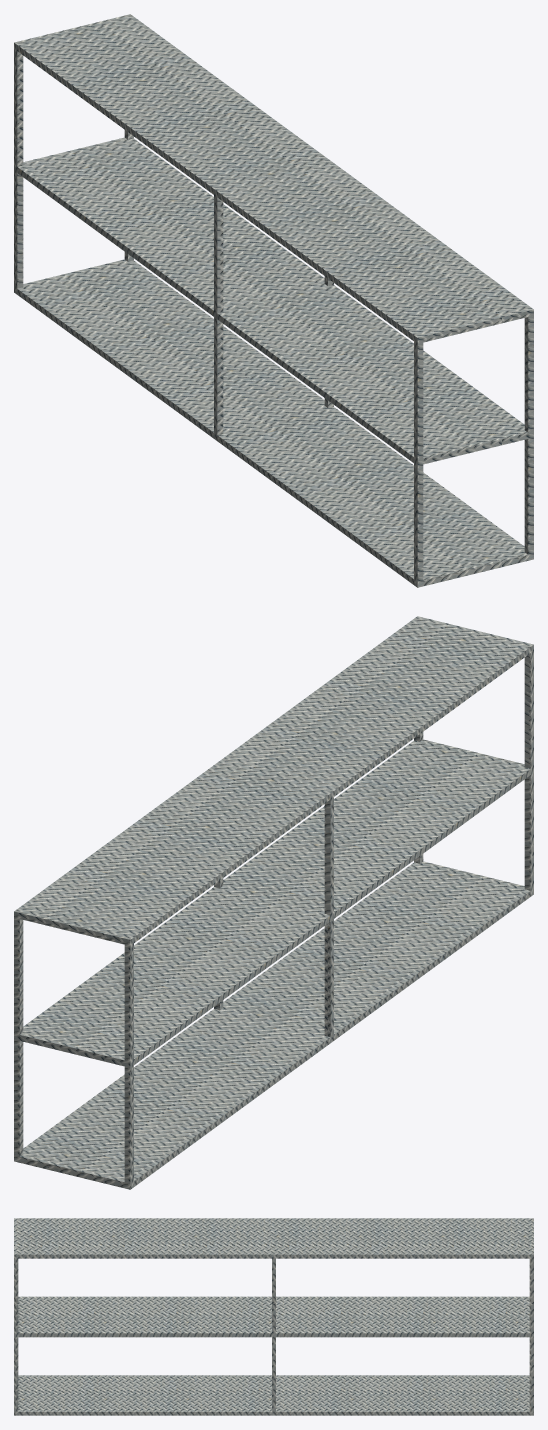
The model's file is rack.dae.
3 renders of one model, top to bottom at view 1: azimuth 30°, elevation 25°; view 2: azimuth 150°, elevation 25°; view 3: azimuth 270°, elevation 25°, orthographic. The views are drawn at different scales.
Visible parts, largest first — view 1: Стеллаж; view 2: Стеллаж; view 3: Стеллаж.
Boxes of the visible parts, x1,y1,x2,y2 form: Стеллаж: [14, 14, 533, 587]; Стеллаж: [14, 616, 533, 1189]; Стеллаж: [14, 1218, 533, 1415].
Bounding box in the file's own units: 1 × 6 × 2.05.
Materials: 1 (1 with a texture image).
